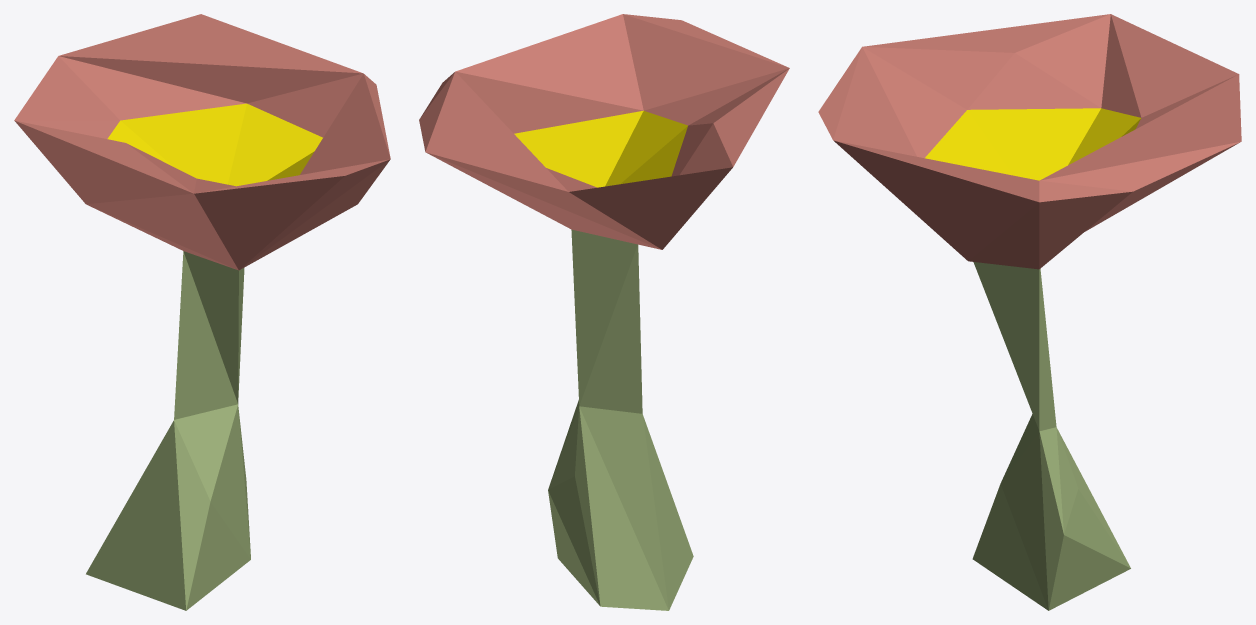
Rendered from flower02.fbx.
The picture shows the model from 3 angles, left to right: view 1: azimuth 30°, elevation 25°; view 2: azimuth 150°, elevation 25°; view 3: azimuth 270°, elevation 25°; orthographic projection. The views are drawn at different scales.
Parts seen in each view (by area): view 1: revolvedSurface3; view 2: revolvedSurface3; view 3: revolvedSurface3.
Part boxes in pixels (bbox=[...]): revolvedSurface3: bbox=[14, 14, 390, 610]; revolvedSurface3: bbox=[419, 14, 789, 610]; revolvedSurface3: bbox=[818, 14, 1241, 610].
Bounding box in the file's own units: 0.019 × 0.0258 × 0.0202.
